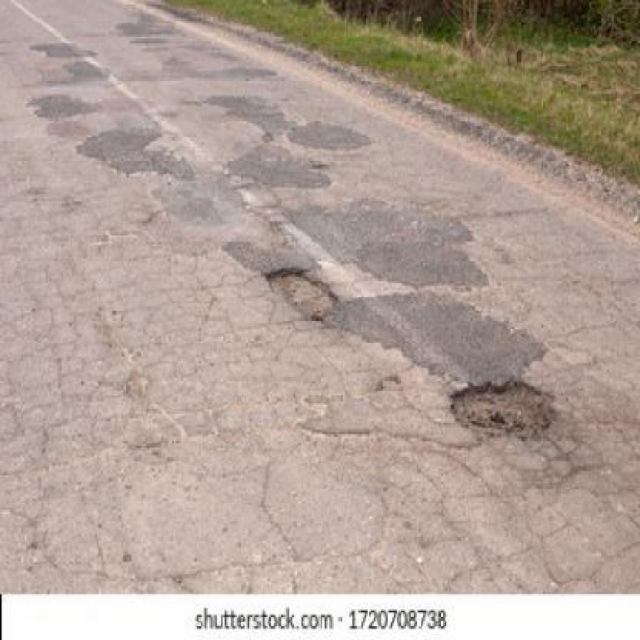Buraco: (446, 378, 561, 446), (262, 265, 343, 324)
